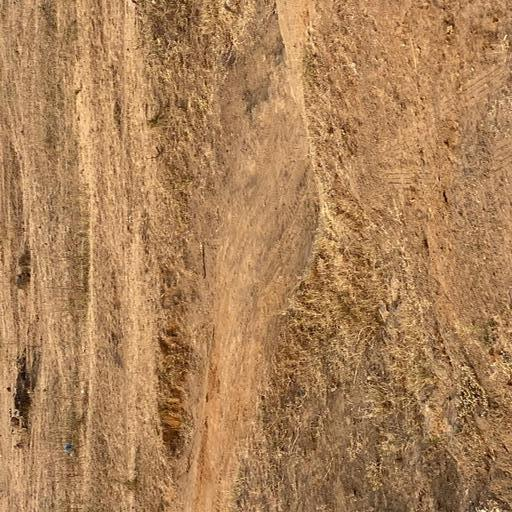vehicle_track: (175, 56, 315, 512)
